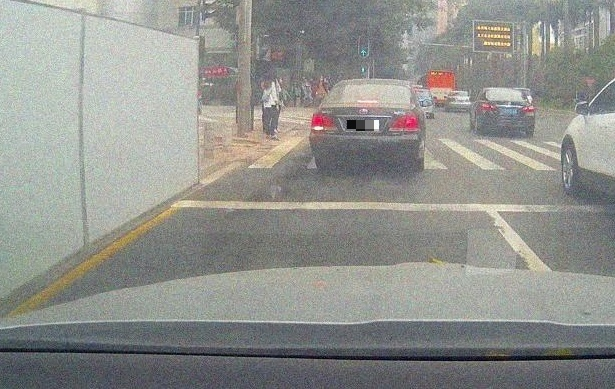L_light: (311, 114, 337, 130), (481, 102, 493, 109)
R_light: (388, 114, 419, 131), (522, 105, 534, 111)
T_light: (357, 98, 378, 104), (503, 90, 511, 93)
day-brake: (309, 78, 424, 170)
day-no: (480, 87, 535, 136)
plate_1: (347, 120, 379, 131)
